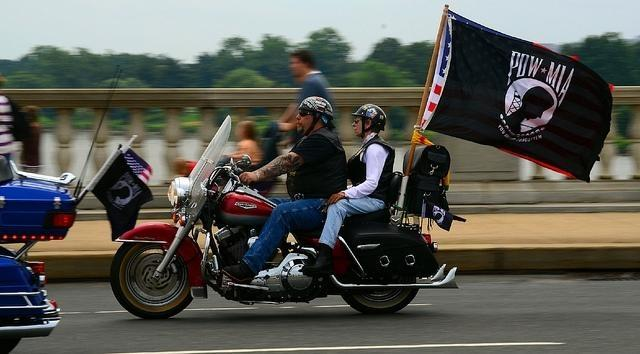motorcycle: (113, 110, 462, 318), (0, 156, 77, 350)
